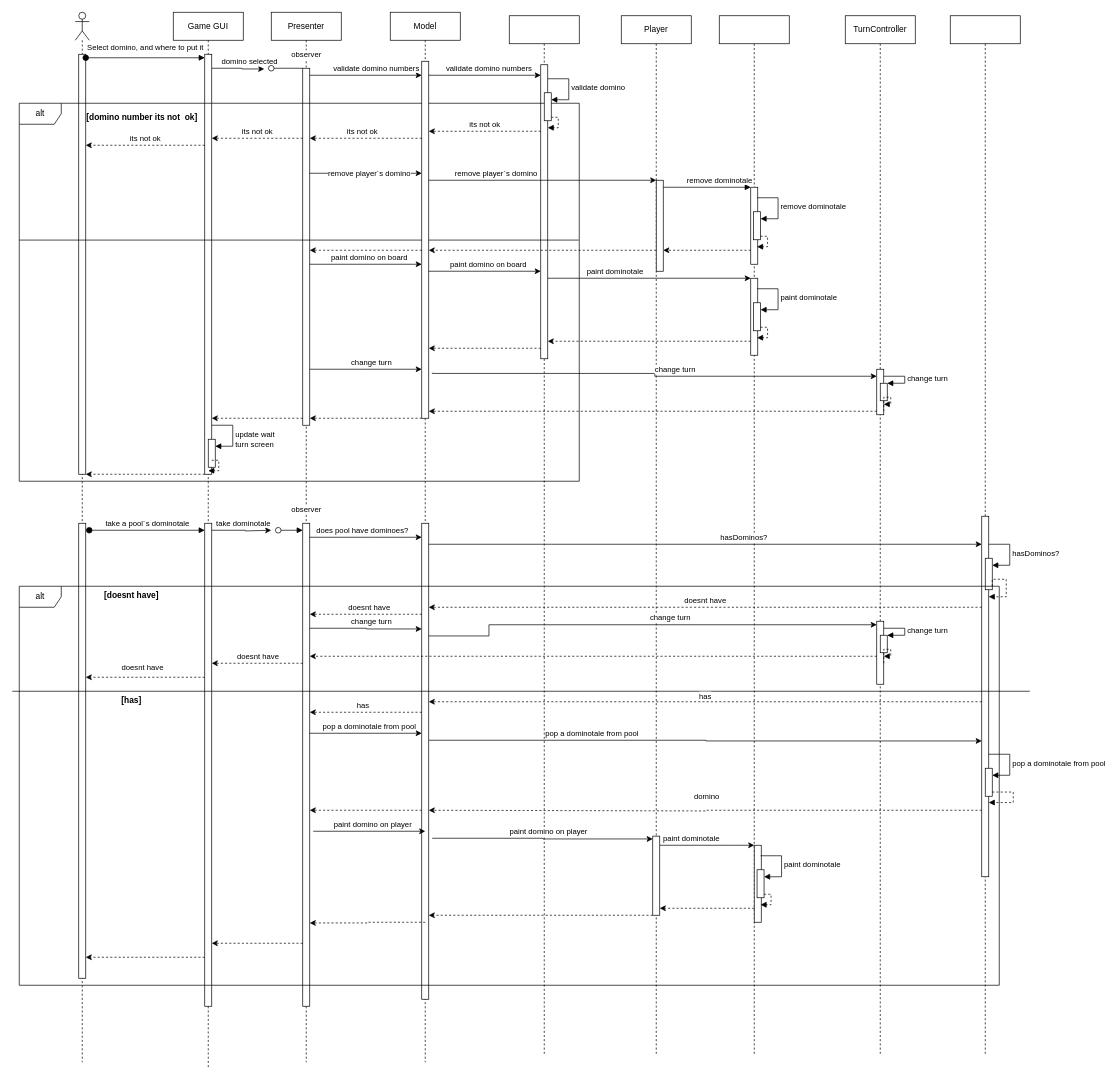
Image size: 1118x1082. Some labels were removed from this diagram. The shapes that lost their labels are listed below. From the top down, each one's box as (x1, y1, x2, y2) in pixels, then its label:
(509, 15, 579, 1055): Board
(719, 15, 789, 1055): DominoTale
(950, 15, 1020, 1055): Pool
